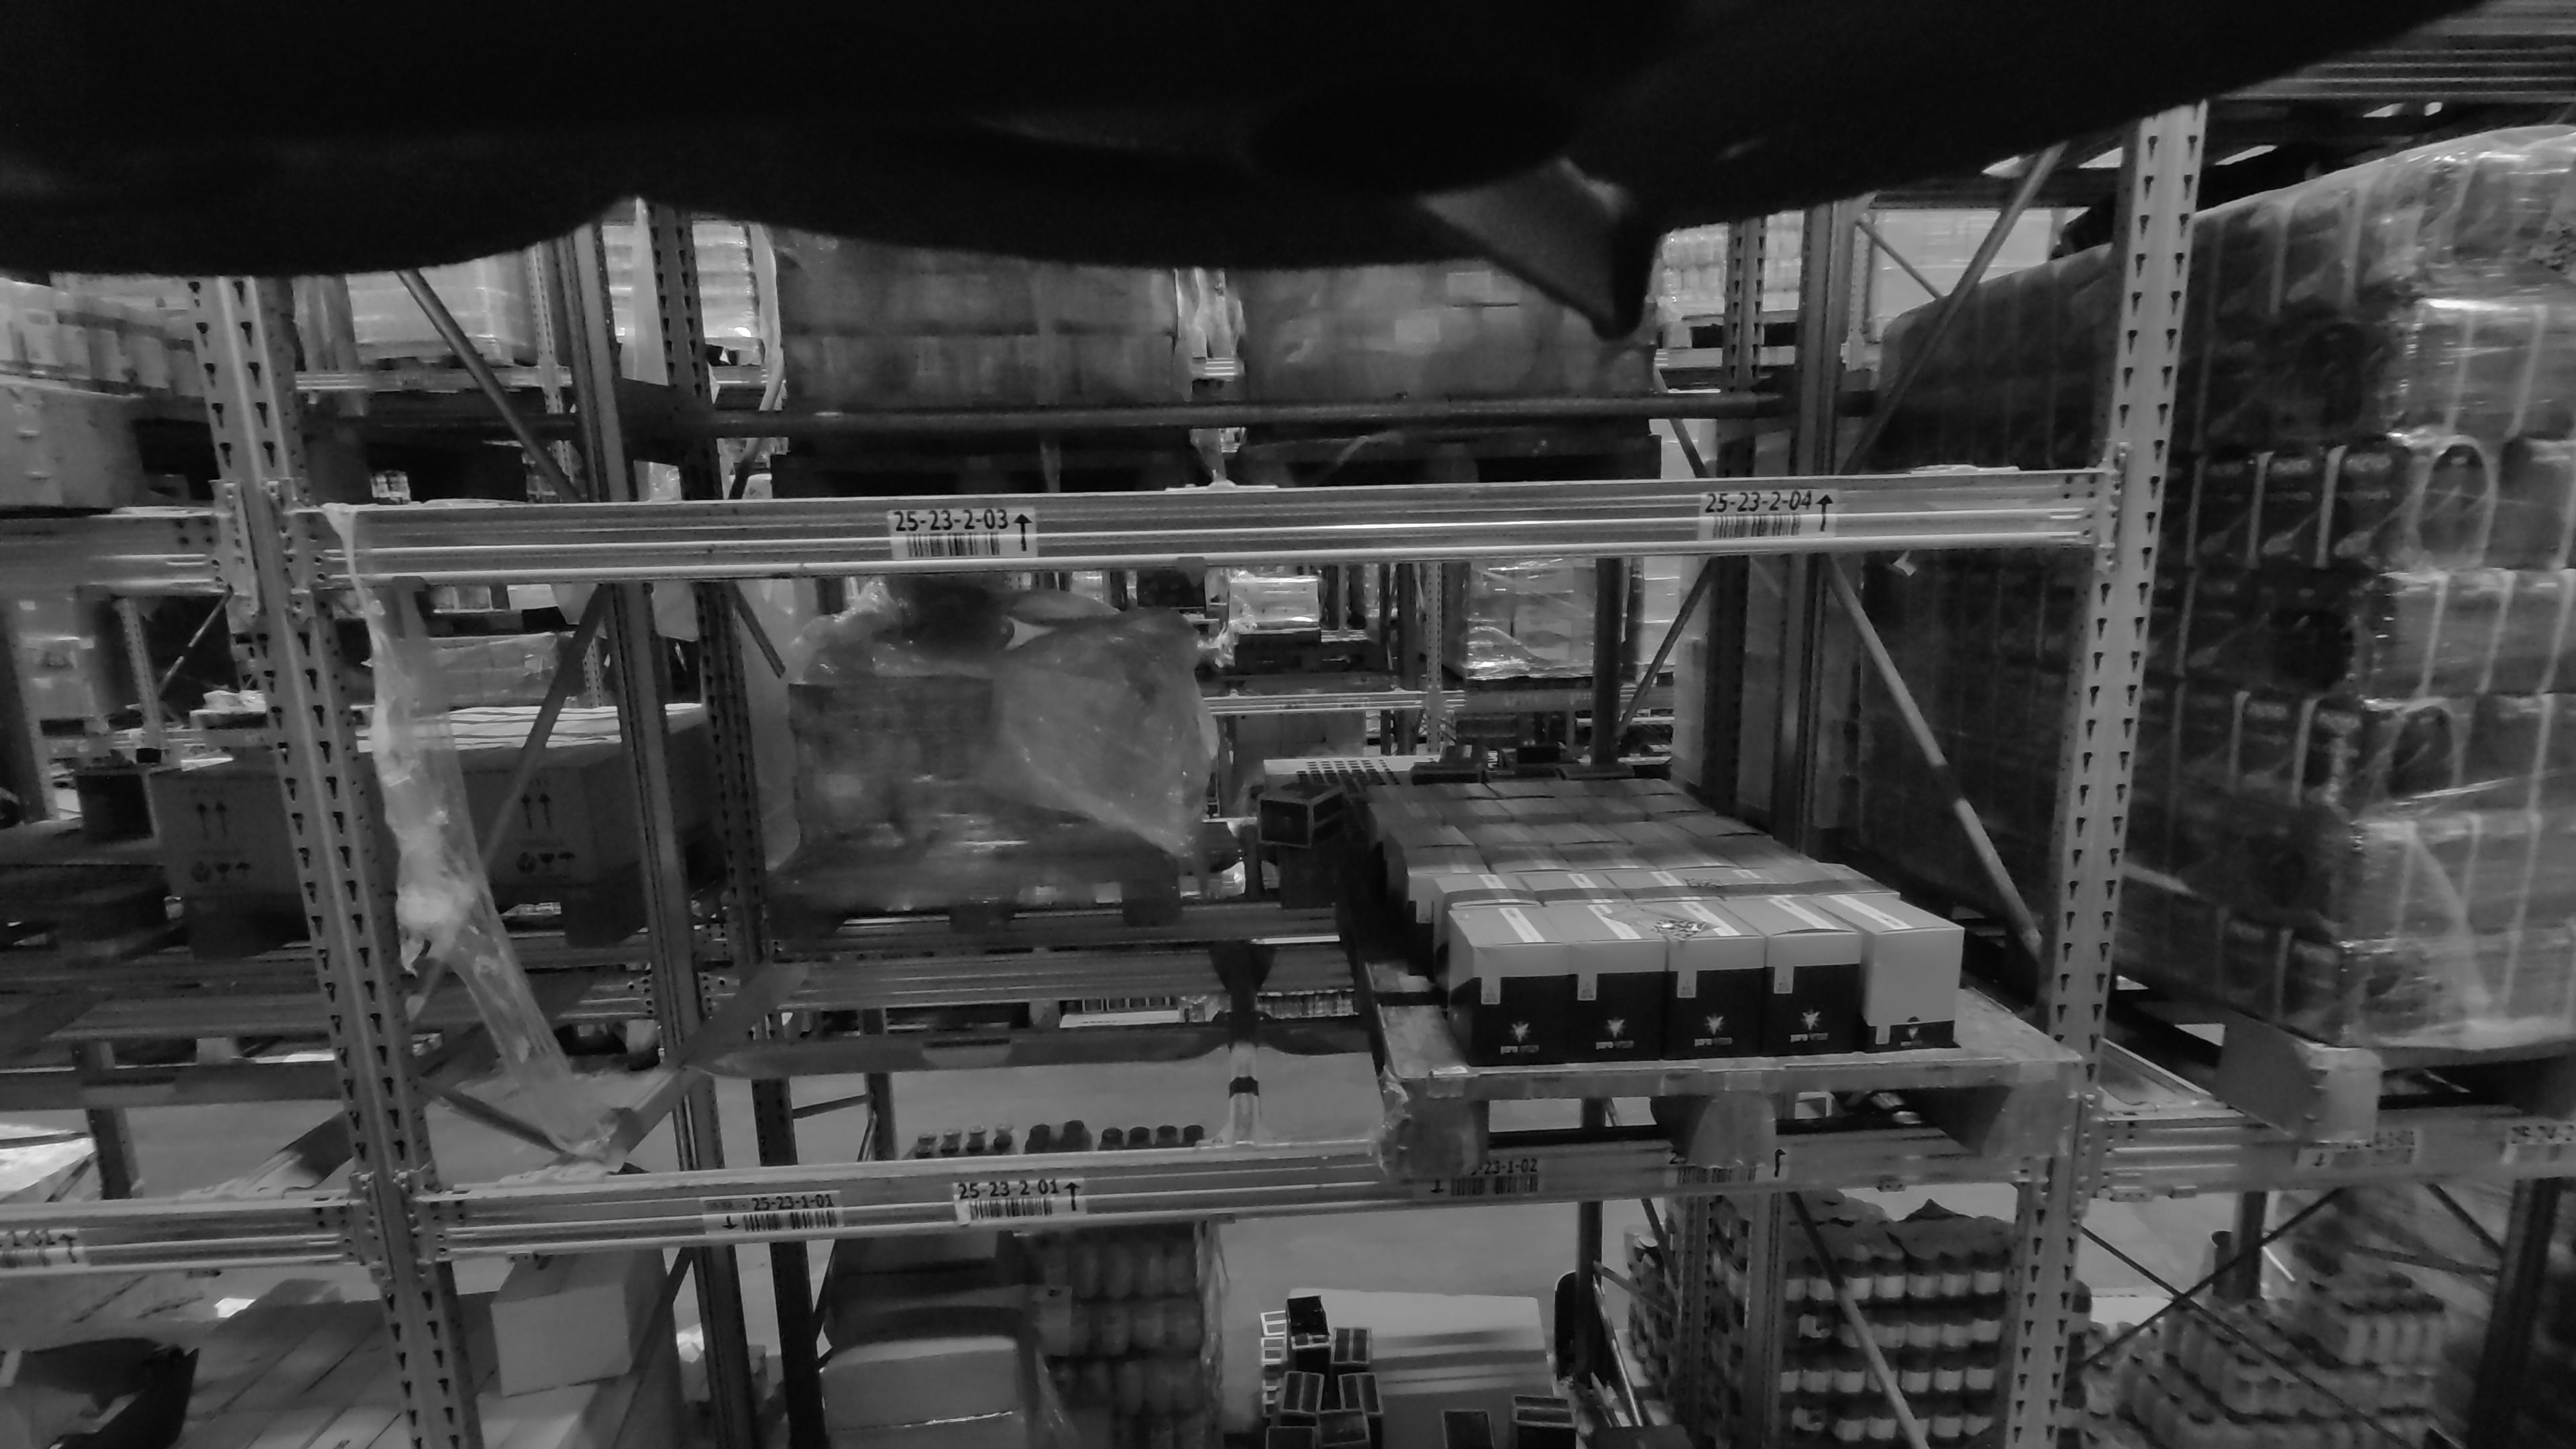empty-shelf: (602, 586, 1281, 1154), (483, 232, 1265, 492), (0, 612, 336, 1187), (1375, 232, 2059, 467)
